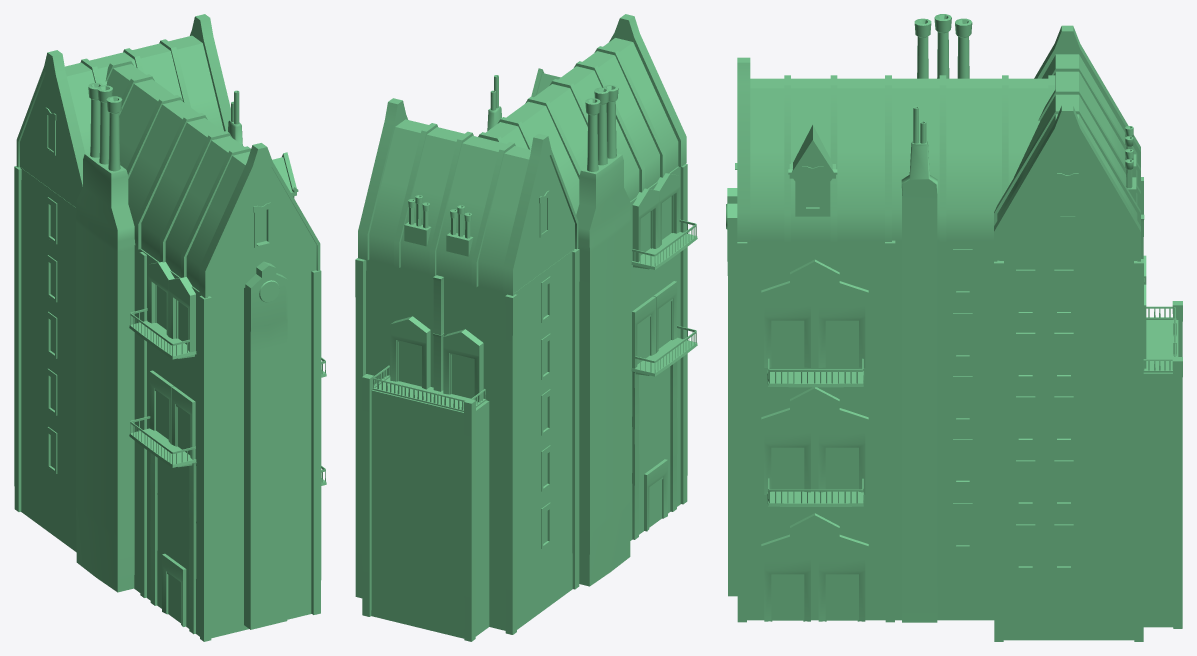
File: Bgr_Building12.fbx
The picture shows the model from 3 angles, left to right: view 1: azimuth 30°, elevation 25°; view 2: azimuth 150°, elevation 25°; view 3: azimuth 270°, elevation 25°; orthographic projection. The views are drawn at different scales.
Parts seen in each view (by area): view 1: Bgr_Building12; view 2: Bgr_Building12; view 3: Bgr_Building12.
Part boxes in pixels (left/top/right/bottom): Bgr_Building12: left=14, top=14, right=326, bottom=641; Bgr_Building12: left=355, top=14, right=697, bottom=641; Bgr_Building12: left=726, top=14, right=1182, bottom=641.
Bounding box in the file's own units: 1441 × 3826 × 2937.
